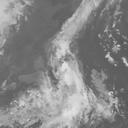cyclone: (39, 43, 88, 98)
